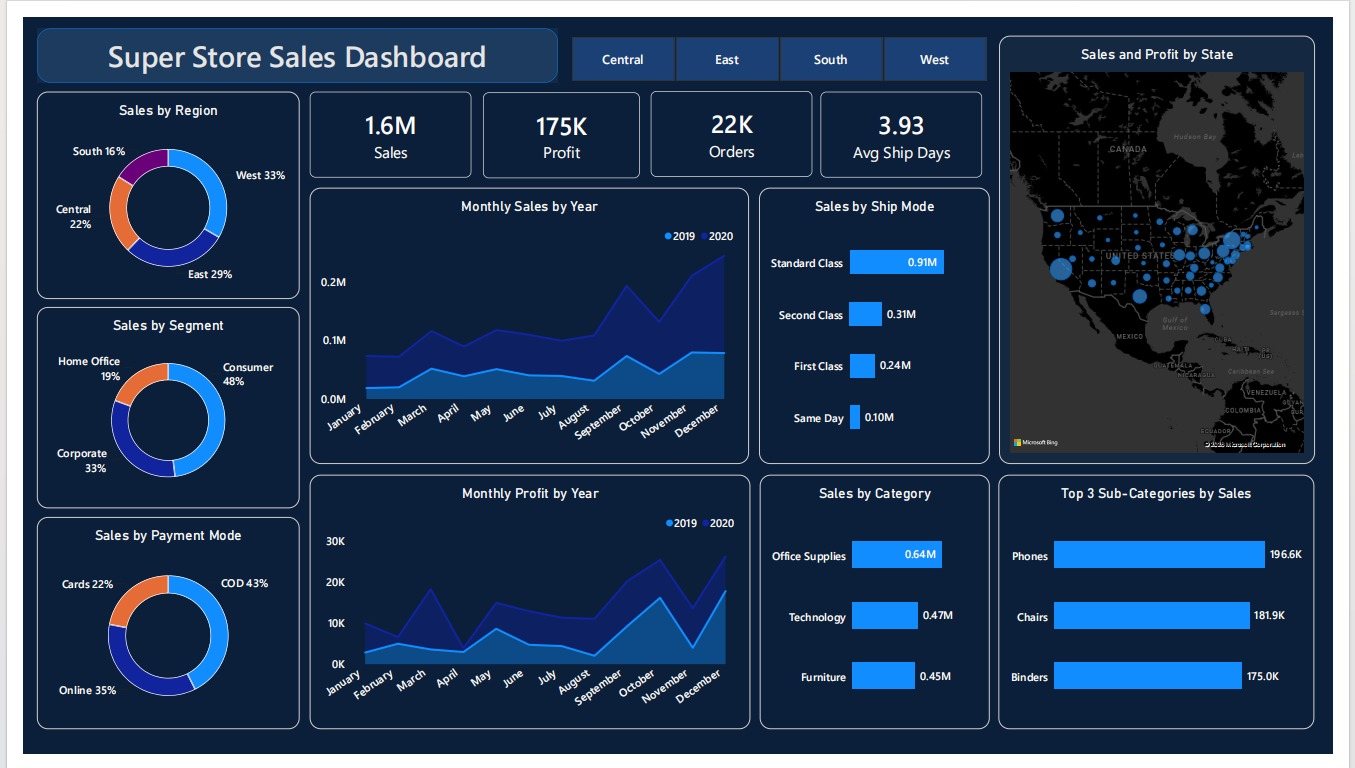

The dashboard page shown, as its layout file describes it:
{"tool":"powerbi","page":{"name":"Sales_Report","canvas":[1920,1080],"ordinal":0},"visuals":[{"type":"clusteredBarChart","title":"Sales by Category","fields":{"Category":["SuperStore_Sales_Dataset.Category"],"Y":["Sum(SuperStore_Sales_Dataset.Sales)"]},"box":[1080.4,671.4,336.6,372.8],"z":0},{"type":"clusteredBarChart","title":"Top 3 Sub-Categories by Sales","fields":{"Category":["SuperStore_Sales_Dataset.Sub-Category"],"Y":["Sum(SuperStore_Sales_Dataset.Sales)"]},"box":[1429.6,671.4,463.3,372.8],"z":1000},{"type":"stackedAreaChart","title":"Monthly Sales by Year","fields":{"Category":["SuperStore_Sales_Dataset.Order Date.Variation.Date Hierarchy.Month","SuperStore_Sales_Dataset.Order Date.Variation.Date Hierarchy.Day"],"Y":["Sum(SuperStore_Sales_Dataset.Sales)"],"Series":["SuperStore_Sales_Dataset.Order Date.Variation.Date Hierarchy.Year"]},"box":[419.8,249.7,644.2,405.4],"z":2000},{"type":"stackedAreaChart","title":"Monthly Profit by Year","fields":{"Category":["SuperStore_Sales_Dataset.Order Date.Variation.Date Hierarchy.Month","SuperStore_Sales_Dataset.Order Date.Variation.Date Hierarchy.Day"],"Series":["SuperStore_Sales_Dataset.Order Date.Variation.Date Hierarchy.Year"],"Y":["Sum(SuperStore_Sales_Dataset.Profit)"]},"box":[419.8,671.4,646,372.8],"z":3000},{"type":"map","title":"Sales and Profit by State","fields":{"Category":["SuperStore_Sales_Dataset.State"],"Size":["Sum(SuperStore_Sales_Dataset.Sales)"]},"box":[1430.5,26.8,463.1,627.8],"z":4000},{"type":"donutChart","title":"Sales by Region","fields":{"Category":["SuperStore_Sales_Dataset.Region"],"Y":["Sum(SuperStore_Sales_Dataset.Sales)"]},"box":[19.9,108.6,385.5,304],"z":5000},{"type":"donutChart","title":"Sales by Payment Mode","fields":{"Category":["SuperStore_Sales_Dataset.Payment Mode"],"Y":["Sum(SuperStore_Sales_Dataset.Sales)"]},"box":[19.9,732.9,385.5,311.3],"z":6000},{"type":"slicer","fields":{"Values":["SuperStore_Sales_Dataset.Region"]},"box":[784.2,26.8,646.3,67.9],"z":7000},{"type":"shape","box":[19.9,16.3,763.7,79.6],"z":8000},{"type":"textbox","box":[20.6,26.8,763.6,67.9],"z":9000},{"type":"cardVisual","fields":{"Data":["Sum(SuperStore_Sales_Dataset.Sales)"]},"box":[419.8,108.6,237,126],"z":10000},{"type":"cardVisual","fields":{"Data":["Sum(SuperStore_Sales_Dataset.Profit)"]},"box":[674,110,230,126],"z":11000},{"type":"cardVisual","fields":{"Data":["SuperStore_Sales_Dataset.Orders Display"]},"box":[920,108,237,126],"z":12000},{"type":"cardVisual","fields":{"Data":["SuperStore_Sales_Dataset.Avg Ship Days Rounded"]},"box":[1169,108.6,237.1,126.7],"z":13000},{"type":"clusteredBarChart","title":"Sales by Ship Mode","fields":{"Category":["SuperStore_Sales_Dataset.Ship Mode"],"Y":["Sum(SuperStore_Sales_Dataset.Sales)"]},"box":[1078.6,249.7,338.4,405.4],"z":14000},{"type":"donutChart","title":"Sales by Segment","fields":{"Category":["SuperStore_Sales_Dataset.Segment"],"Y":["Sum(SuperStore_Sales_Dataset.Sales)"]},"box":[19.9,425.3,385.5,295],"z":15000}]}

Visuals, with their boxes in screenshot pixels (x1, y1, x2, y2), scaled from the page's 1920x1080 canvas onto the 1355x768 screenshot:
"Sales by Category" clusteredBarChart: BBox(762, 477, 1000, 743)
"Top 3 Sub-Categories by Sales" clusteredBarChart: BBox(1009, 477, 1336, 743)
"Monthly Sales by Year" stackedAreaChart: BBox(296, 178, 751, 466)
"Monthly Profit by Year" stackedAreaChart: BBox(296, 477, 752, 743)
"Sales and Profit by State" map: BBox(1010, 19, 1336, 465)
"Sales by Region" donutChart: BBox(14, 77, 286, 293)
"Sales by Payment Mode" donutChart: BBox(14, 521, 286, 743)
slicer - SuperStore_Sales_Dataset.Region: BBox(553, 19, 1010, 67)
shape: BBox(14, 12, 553, 68)
textbox: BBox(15, 19, 553, 67)
cardVisual - Sum(SuperStore_Sales_Dataset.Sales): BBox(296, 77, 464, 167)
cardVisual - Sum(SuperStore_Sales_Dataset.Profit): BBox(476, 78, 638, 168)
cardVisual - SuperStore_Sales_Dataset.Orders Display: BBox(649, 77, 817, 166)
cardVisual - SuperStore_Sales_Dataset.Avg Ship Days Rounded: BBox(825, 77, 992, 167)
"Sales by Ship Mode" clusteredBarChart: BBox(761, 178, 1000, 466)
"Sales by Segment" donutChart: BBox(14, 302, 286, 512)
